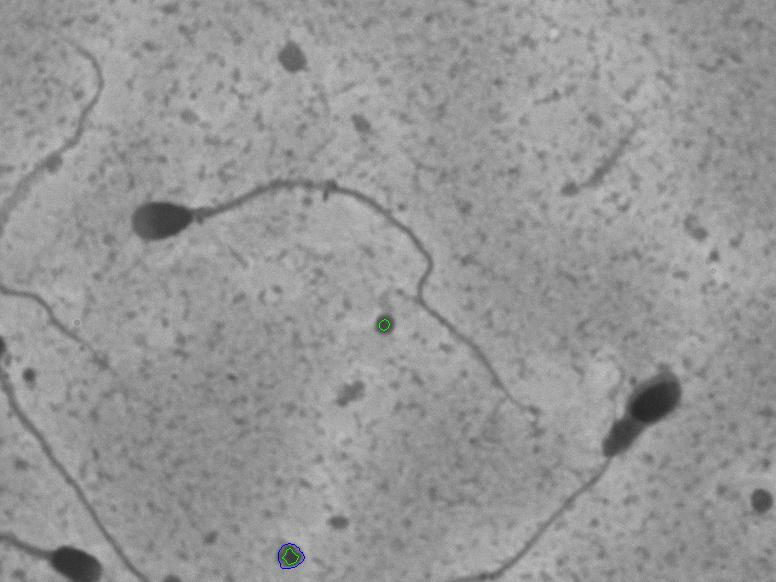Abnormal: (521, 313, 718, 569)
Normal: (122, 139, 551, 409)
